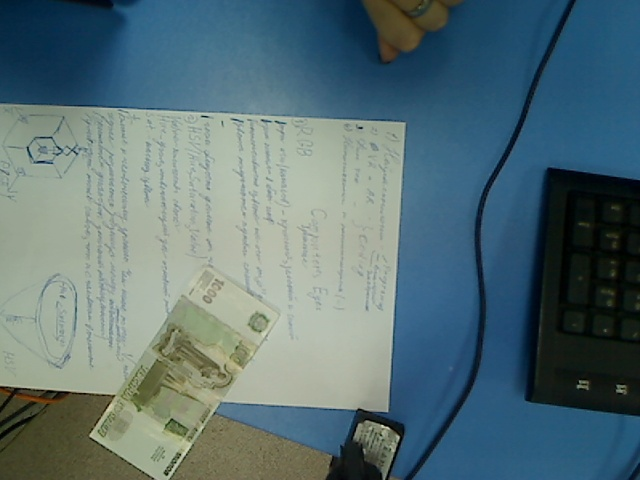banknotes: (87, 261, 284, 480)
